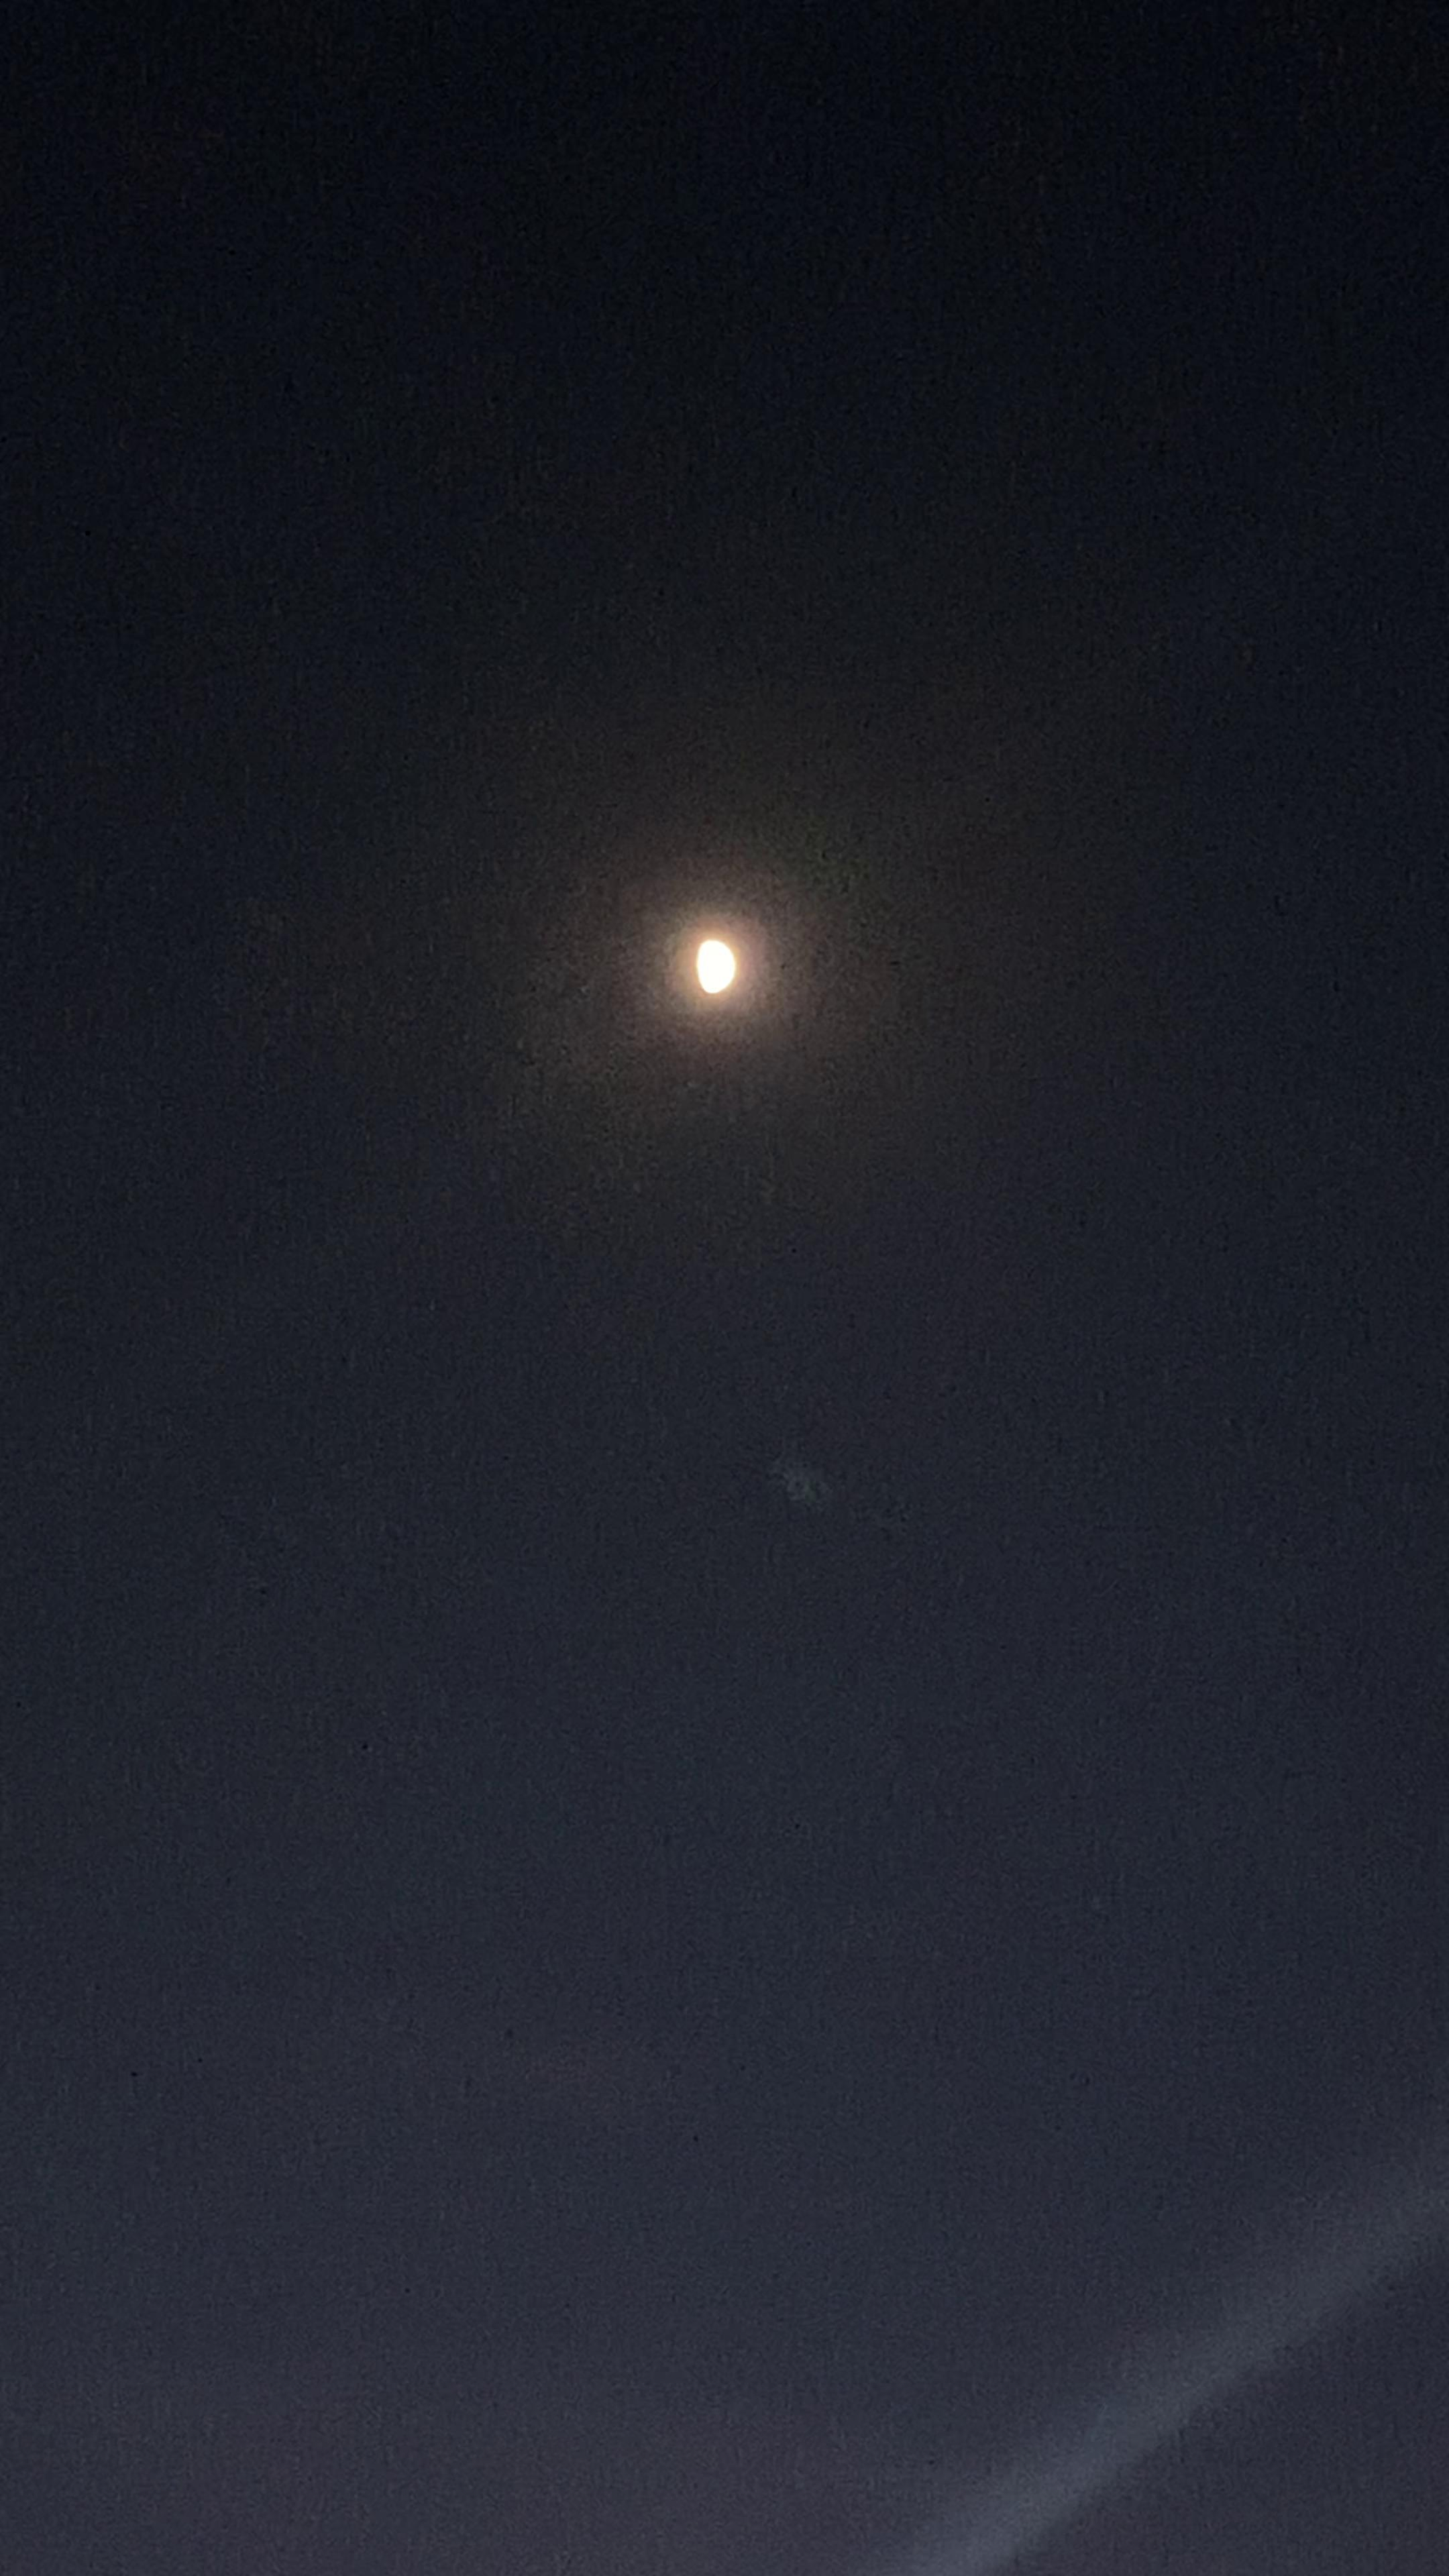moon: (674, 904, 775, 1021)
